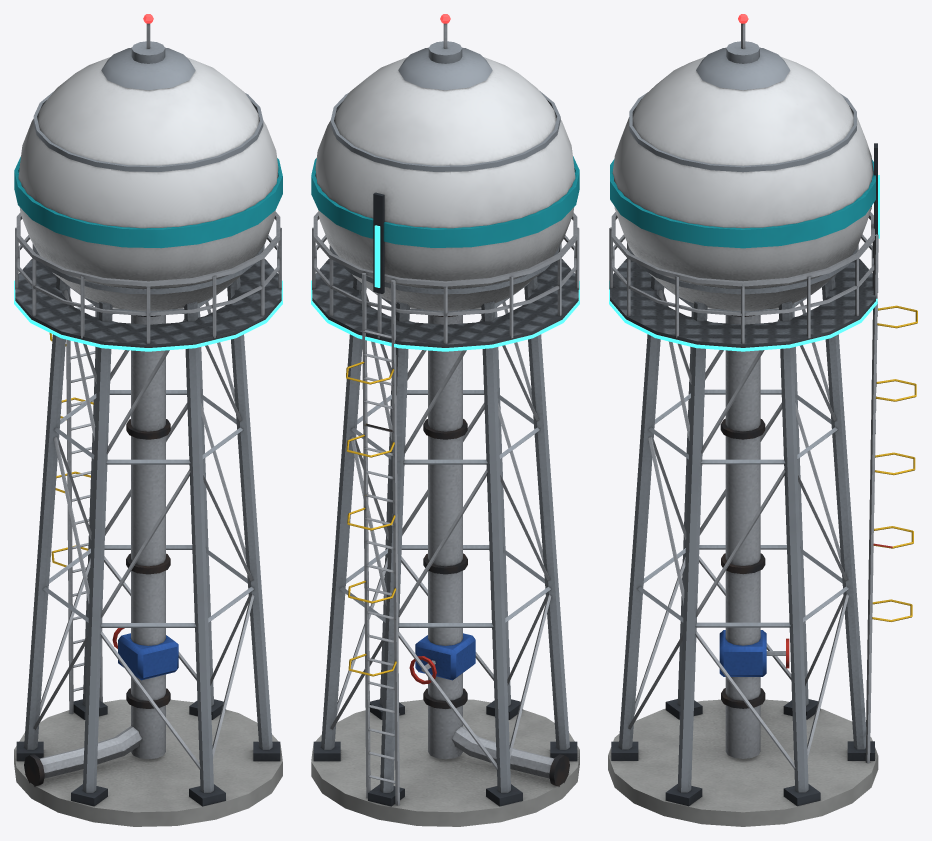
Rendered from deposito_agua.fbx.
3 views of the same model, side by side, from view 1: azimuth 30°, elevation 25°; view 2: azimuth 150°, elevation 25°; view 3: azimuth 270°, elevation 25° (orthographic).
Parts seen in each view (by area): view 1: deposito_agua, deposito_agua_neon; view 2: deposito_agua, deposito_agua_neon; view 3: deposito_agua, deposito_agua_neon.
Boxes of the visible parts, x1=… form: deposito_agua: x1=14, y1=23, x2=282, y2=826; deposito_agua_neon: x1=14, y1=280, x2=282, y2=351; deposito_agua: x1=311, y1=23, x2=579, y2=826; deposito_agua_neon: x1=311, y1=225, x2=579, y2=351; deposito_agua: x1=608, y1=23, x2=917, y2=826; deposito_agua_neon: x1=609, y1=175, x2=879, y2=351.
Size of the model in its own units: 4.04 by 12.35 by 4.59.
Materials: 2 (2 with a texture image).
